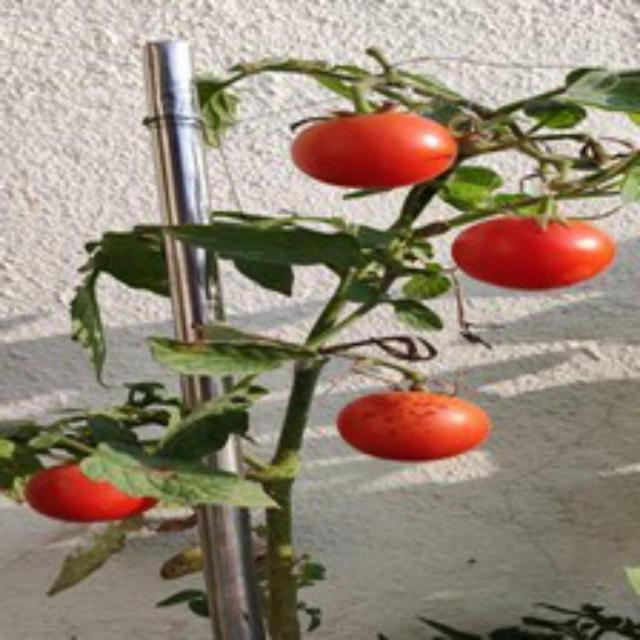tomato: (282, 97, 458, 200), (454, 203, 619, 298), (337, 378, 491, 465)
